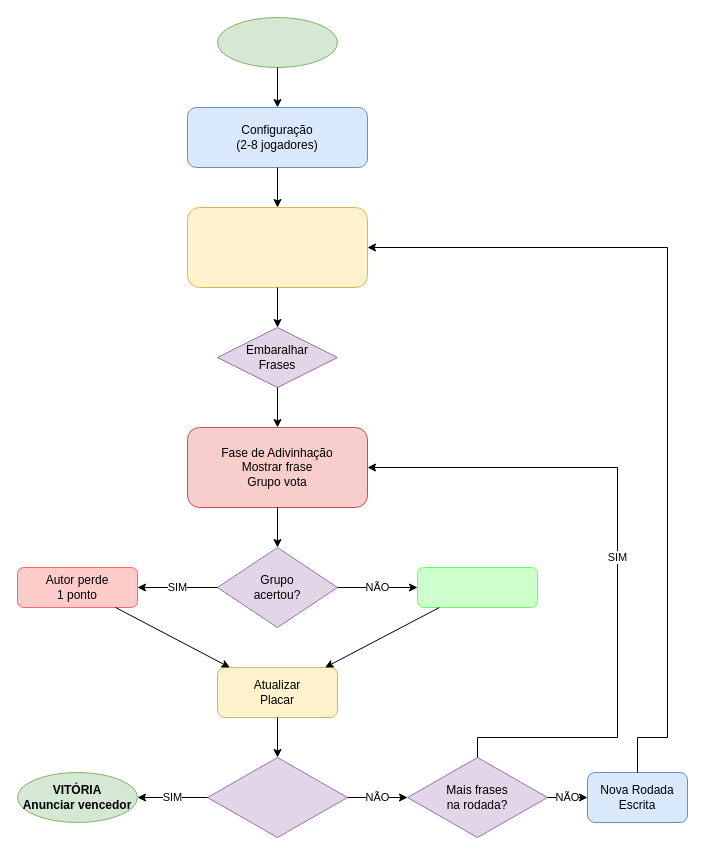
The diagram is 705 pixels wide and 855 high, and some of its shapes have lost their labels. The shapes that lost their labels are listed below. From the top down, each one's centre as x and y in pixels, then its label:
pixel 277 42: INÍCIO
pixel 277 247: Fase de Escrita Cada jogador escreve uma frase
pixel 477 587: Ninguém perde ponto
pixel 277 797: ≤1 jogador com pontos?
